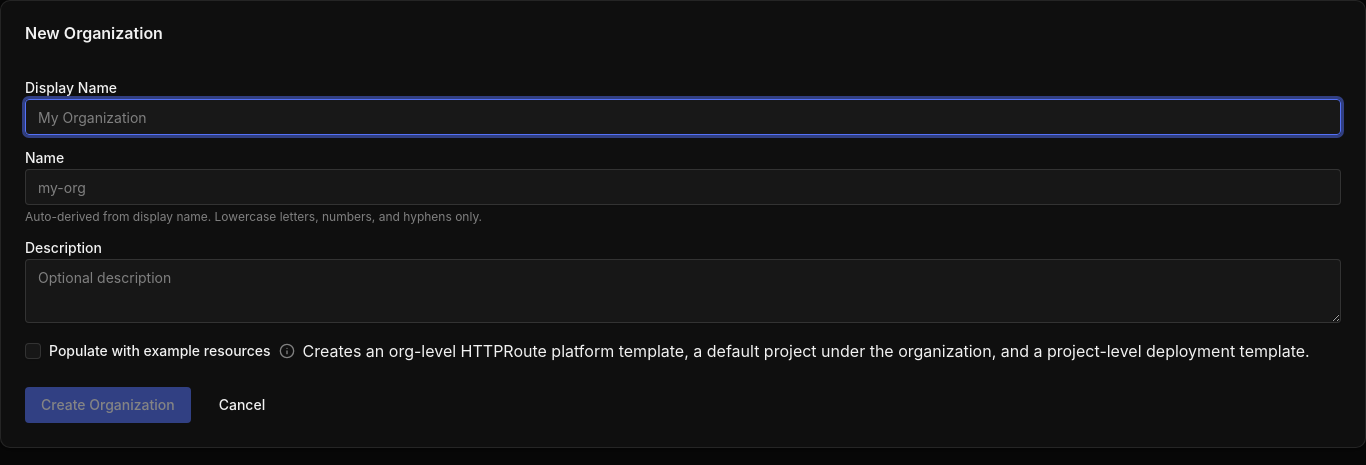
OrganizationNewPage › auto-derives name slug from display name
Type "My Org" into the field labelled "Display Name" at (683, 117), box [25,99,1341,135]
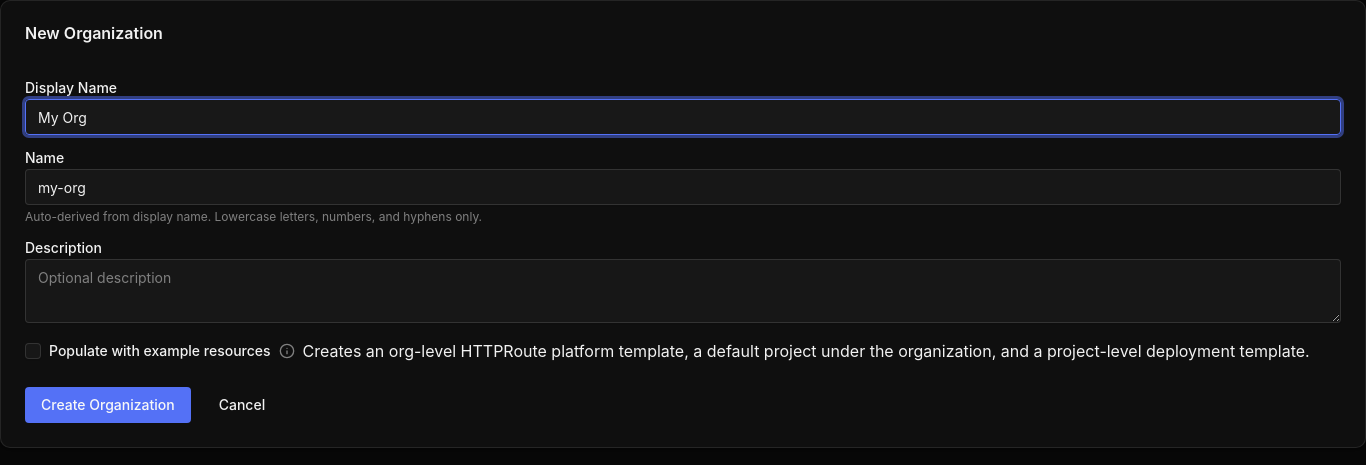
Check: the field labelled "Name" holds "my-org", box [25,169,1341,205]
